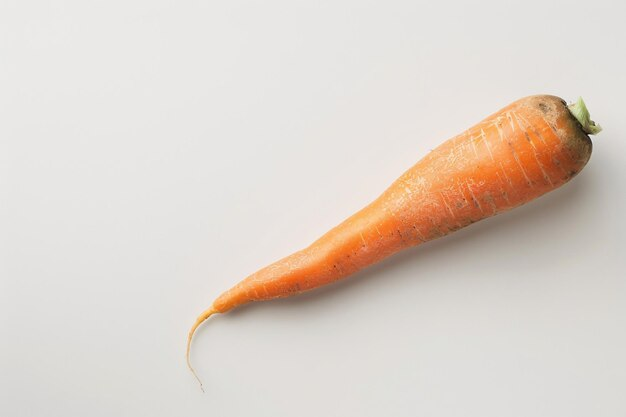carrot: (164, 92, 619, 386)
